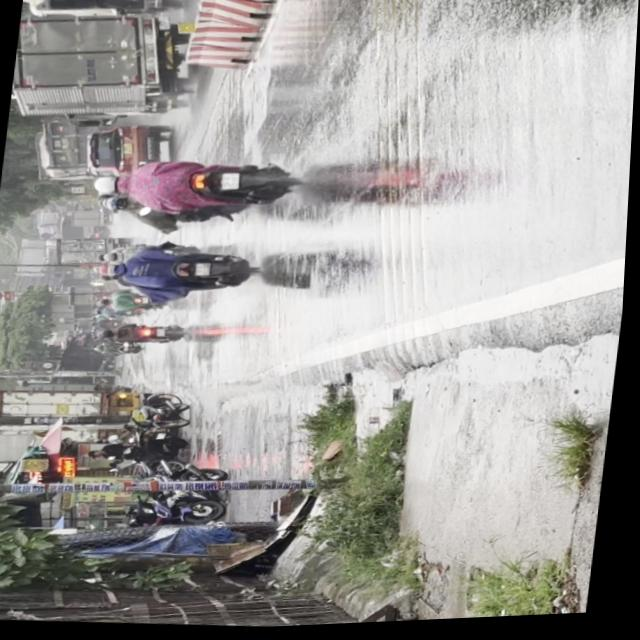helmet: (91, 173, 125, 196), (104, 195, 133, 213), (95, 261, 122, 278)
licenseplate: (87, 148, 304, 231), (91, 239, 260, 304)
nohelmet: (220, 174, 240, 192), (195, 264, 211, 277)
